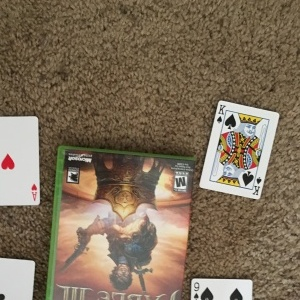card: (198, 98, 280, 202)
